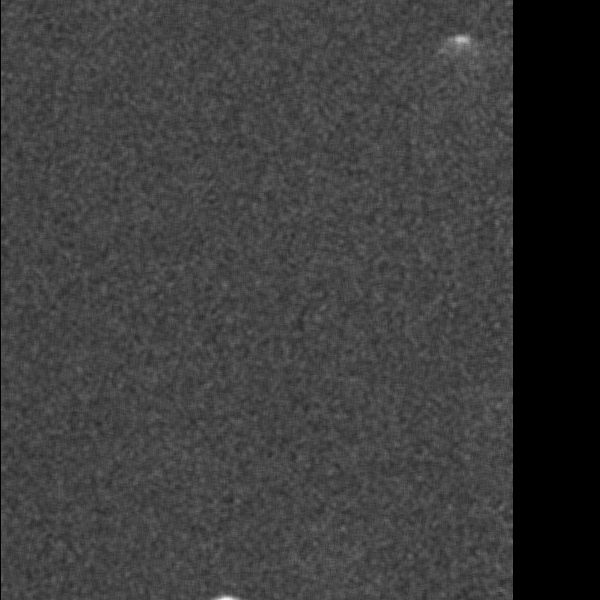spark: (439, 25, 479, 80)
